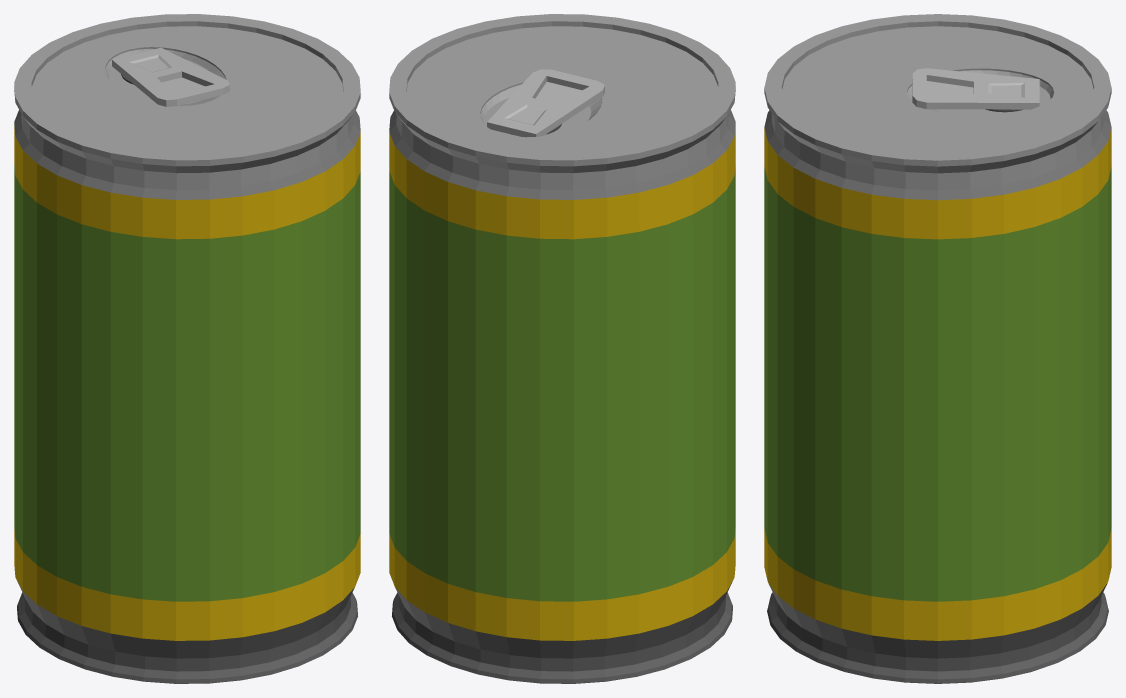
The model's file is Can of Sprits.fbx.
The picture shows the model from 3 angles, left to right: view 1: azimuth 30°, elevation 25°; view 2: azimuth 150°, elevation 25°; view 3: azimuth 270°, elevation 25°; orthographic projection.
Visible parts, largest first — view 1: Can of Sprits; view 2: Can of Sprits; view 3: Can of Sprits.
Boxes of the visible parts, box(x1,y1,x2,y2) form: Can of Sprits: box(14, 14, 360, 683); Can of Sprits: box(389, 14, 735, 683); Can of Sprits: box(764, 14, 1111, 683).
Size of the model in its own units: 15.54 by 26.08 by 15.54.
1 material, 1 textured.
